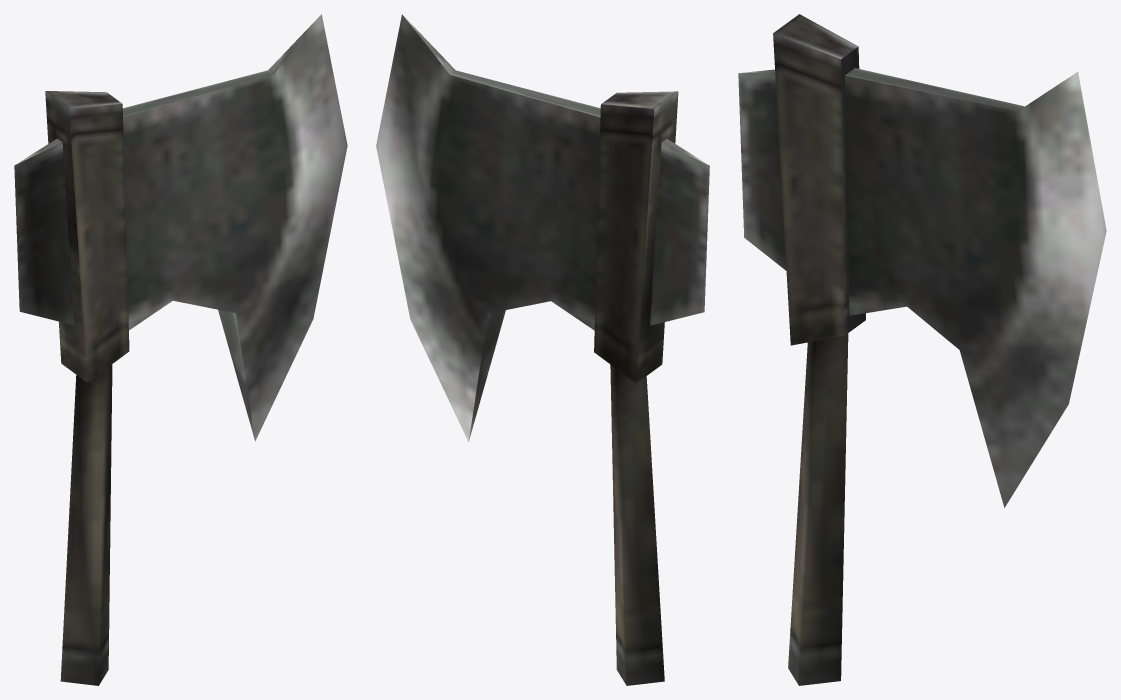
3 views of the same model, side by side, from view 1: azimuth 30°, elevation 25°; view 2: azimuth 150°, elevation 25°; view 3: azimuth 330°, elevation 25° (orthographic). The views are drawn at different scales.
Visible parts, largest first — view 1: OM_21_ta_ax03A; view 2: OM_21_ta_ax03A; view 3: OM_21_ta_ax03A.
Boxes of the visible parts, bbox=[...] form: OM_21_ta_ax03A: bbox=[14, 14, 347, 685]; OM_21_ta_ax03A: bbox=[376, 14, 709, 685]; OM_21_ta_ax03A: bbox=[738, 14, 1106, 685].
Size of the model in its own units: 0.5323 by 0.9205 by 0.0779.
1 material, 1 textured.
